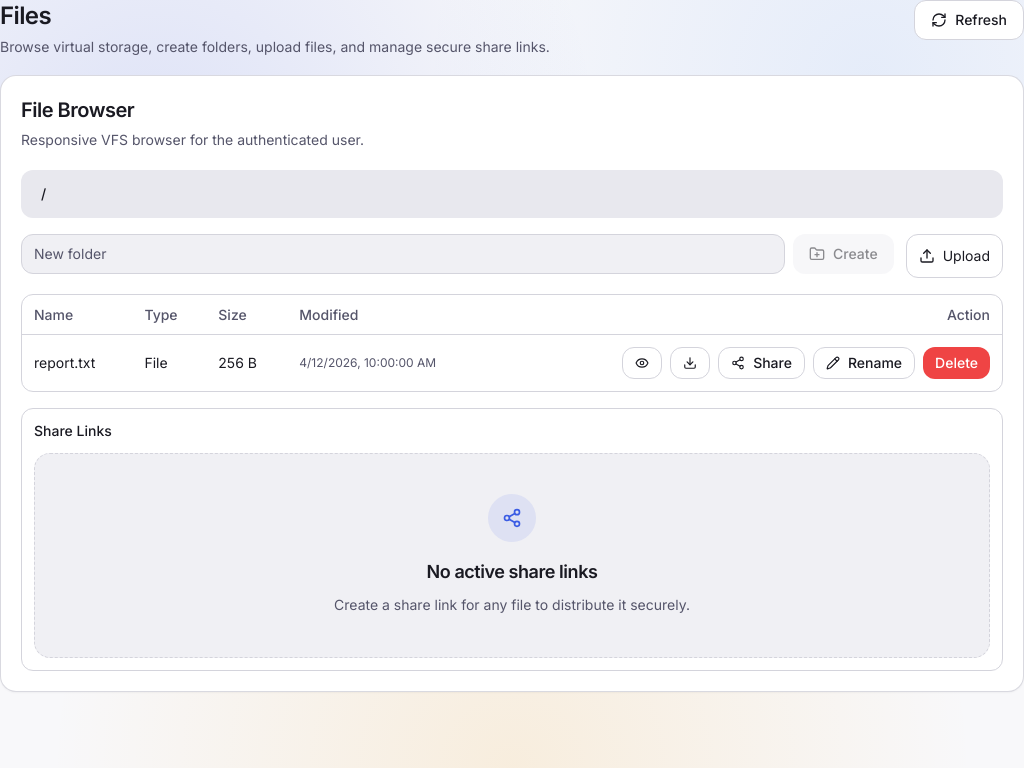
Test case: FilesPage › renames a file through the dialog flow
Expected: the row "report.txt" is shown, [22,335,1002,391]
Click the button with aria-label "Rename report.txt". click: [864, 363]
box: [813,347,915,379]
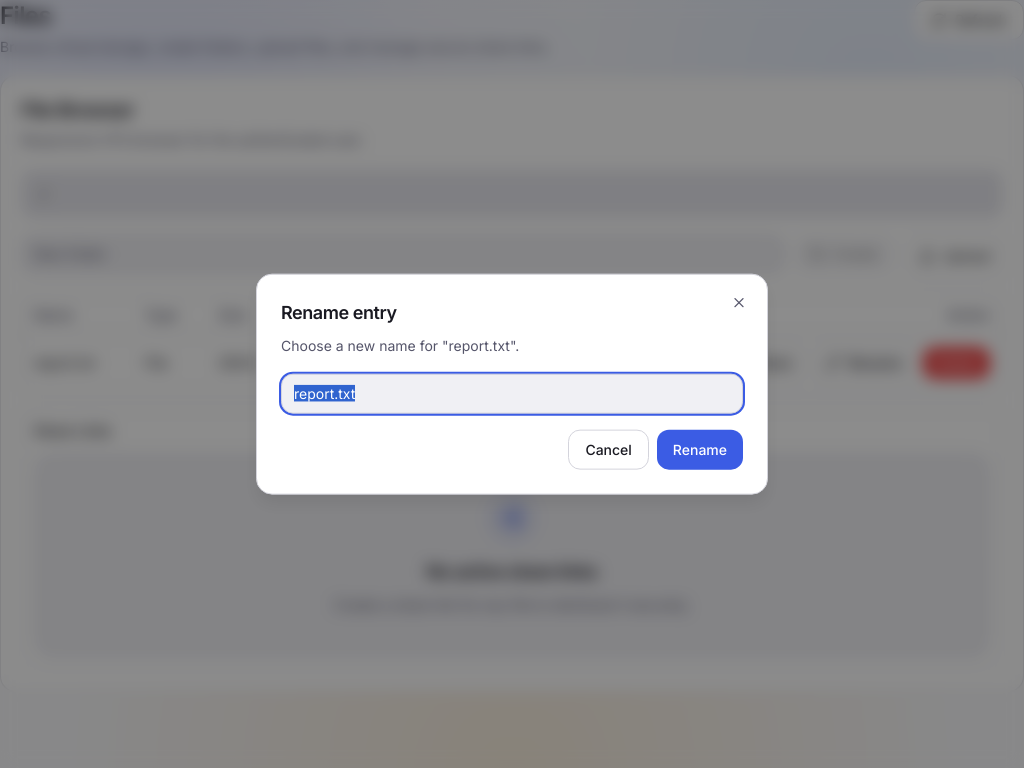
Clear the field with placeholder "New name". click: [512, 393]
box: [281,373,743,413]
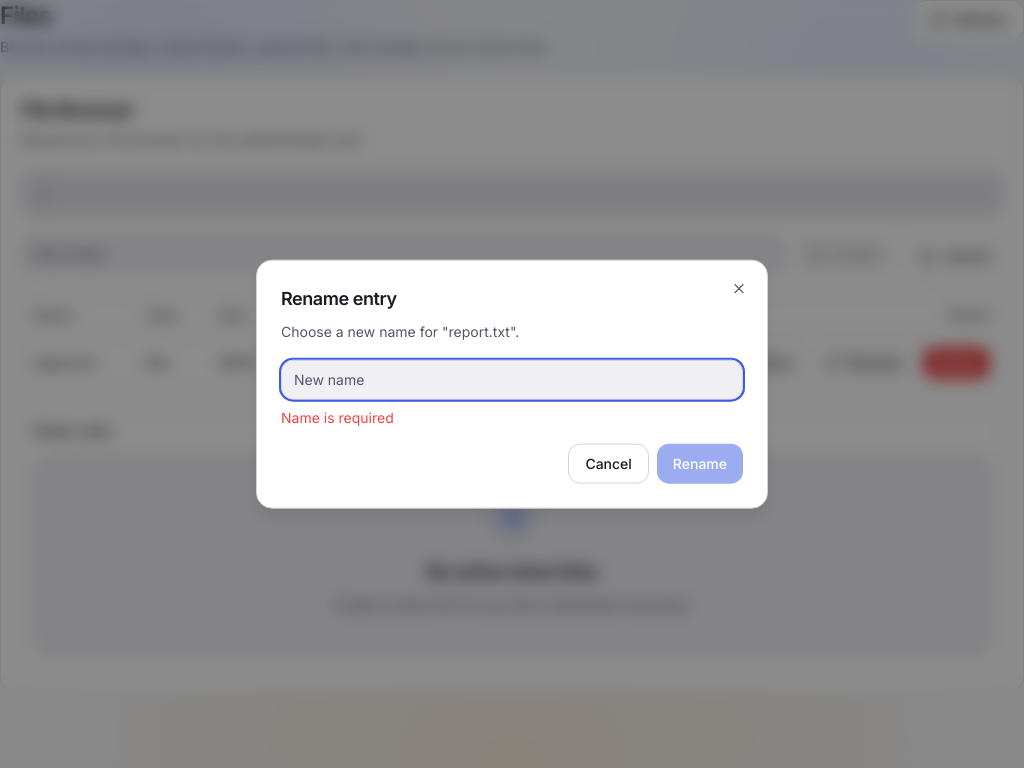
Type "renamed.txt" into the field with placeholder "New name". click: [512, 379]
box: [281,359,743,399]
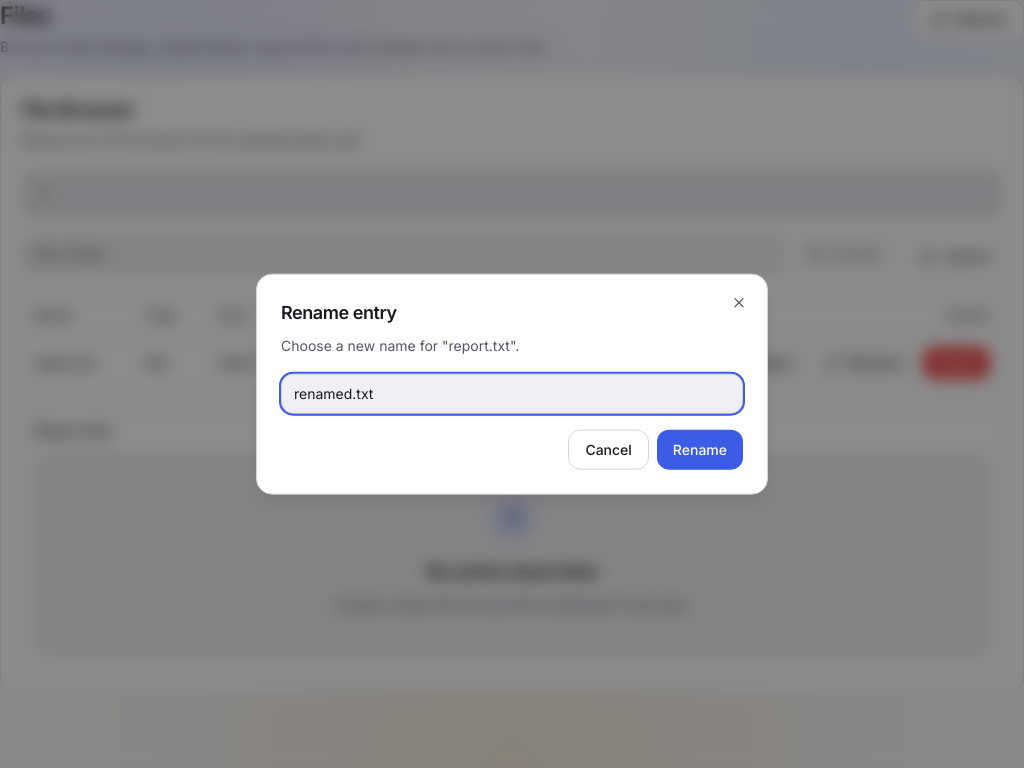
Click the button "Rename". click: [700, 449]
box: [657,429,743,469]
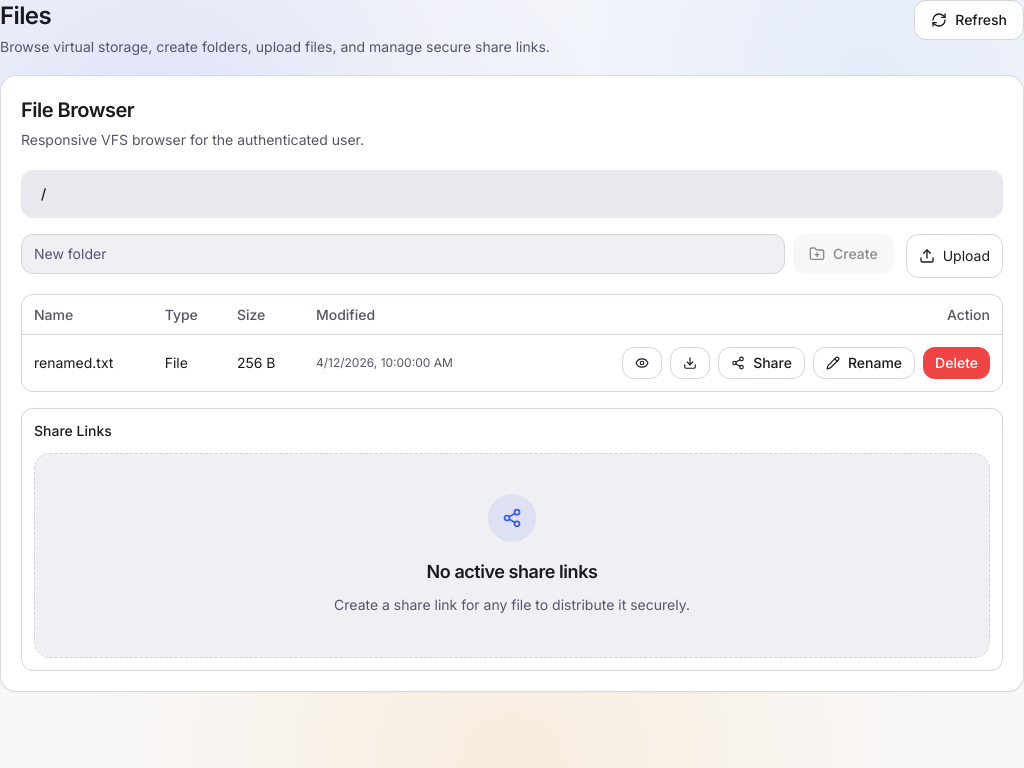
Expected: the cell "renamed.txt" is shown, [22,335,153,391]
